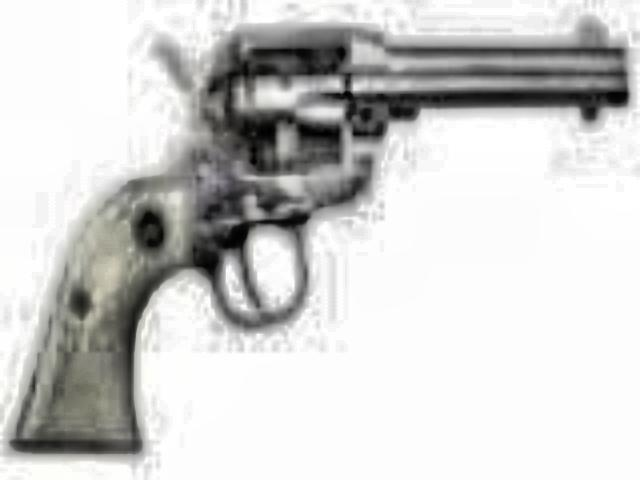pistol: (12, 20, 624, 448)
